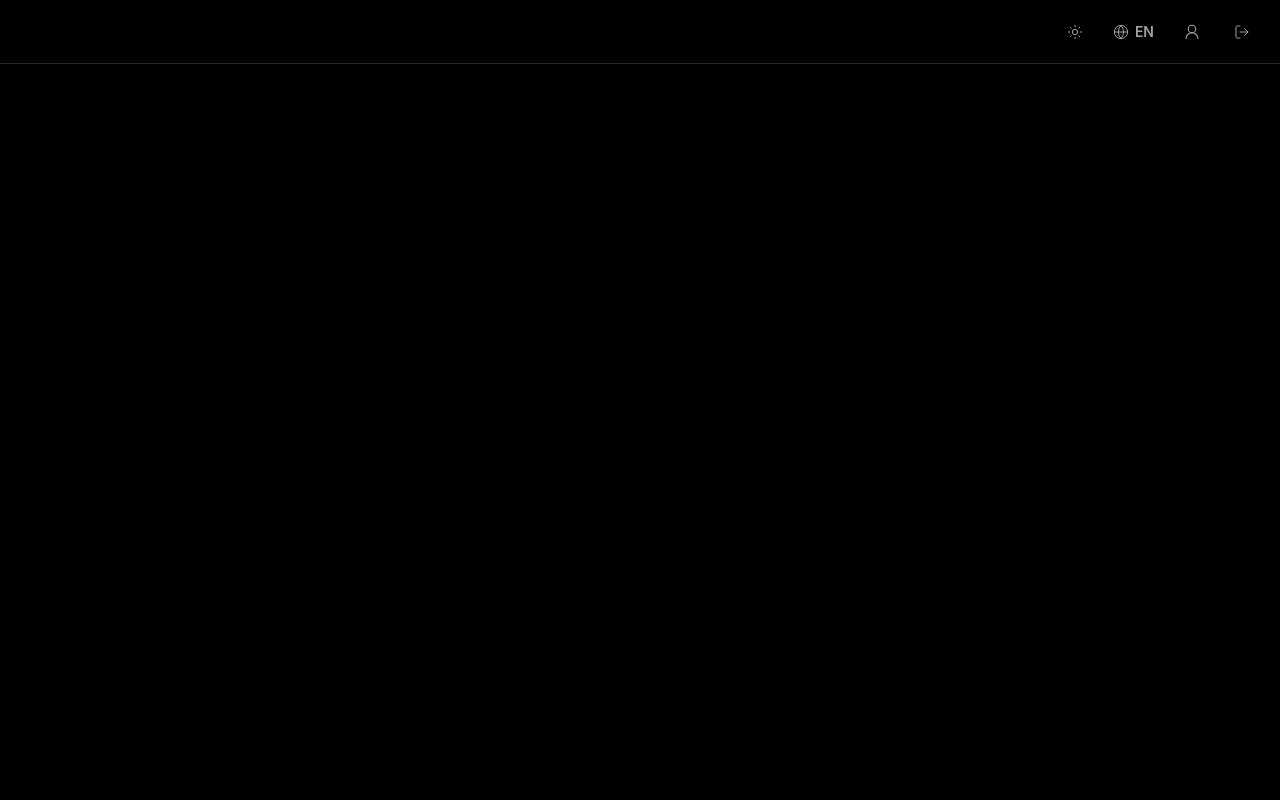
it: HeaderToolbar › closes the account menu on a click outside
Click the button named "Konto" at (1192, 32), box top-left (1170, 10), bottom-right (1214, 54)
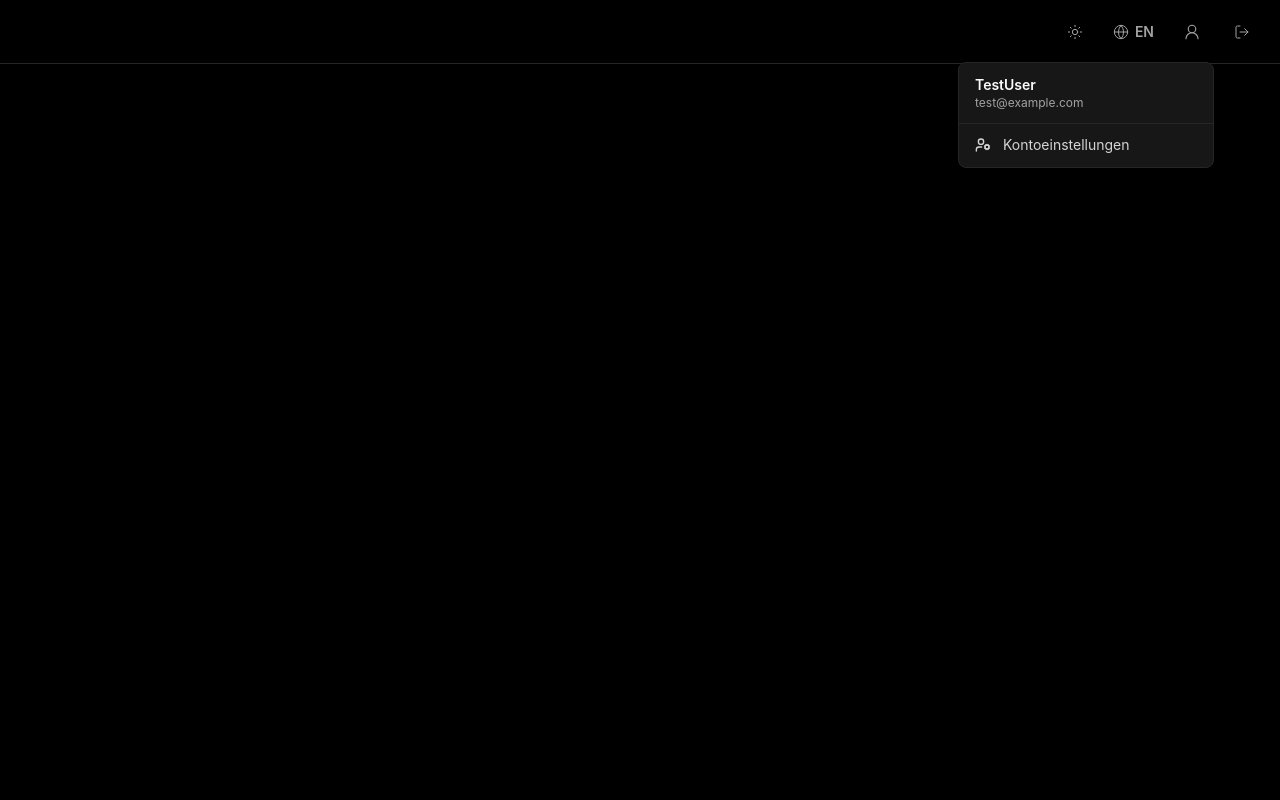
expect the text "test@example.com" is shown: met, box top-left (975, 94), bottom-right (1084, 110)
Press the mouse on the element showing "EN TestUser test@example.com Kontoeinstellungen" at (640, 400), box top-left (0, 0), bottom-right (1279, 799)
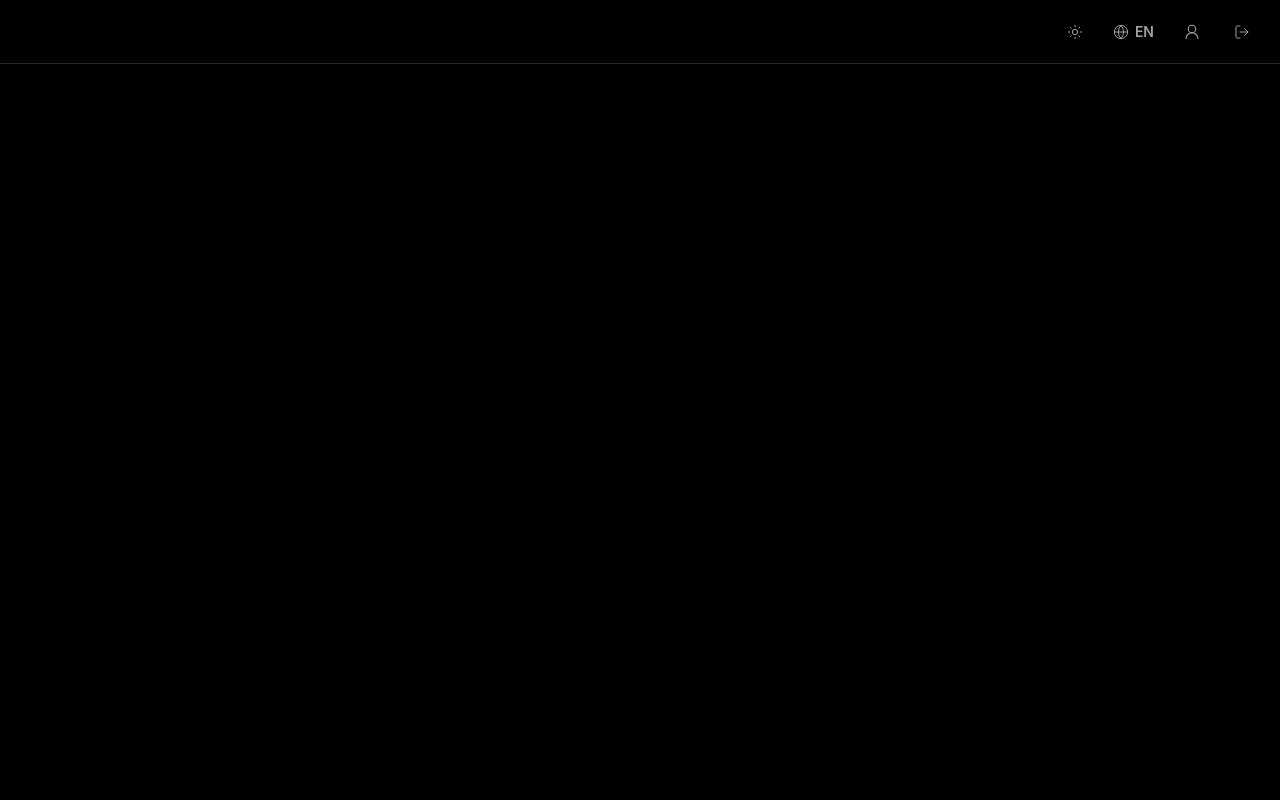
expect the text "test@example.com" is gone: met
